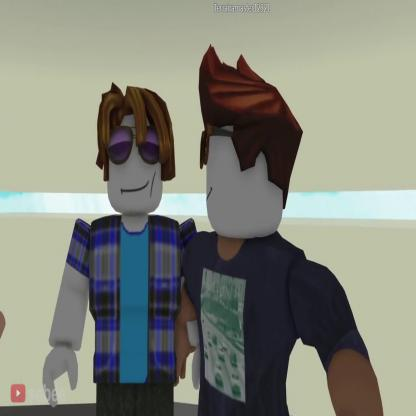Roblox-Avatar: (176, 44, 384, 416), (43, 82, 202, 416)
